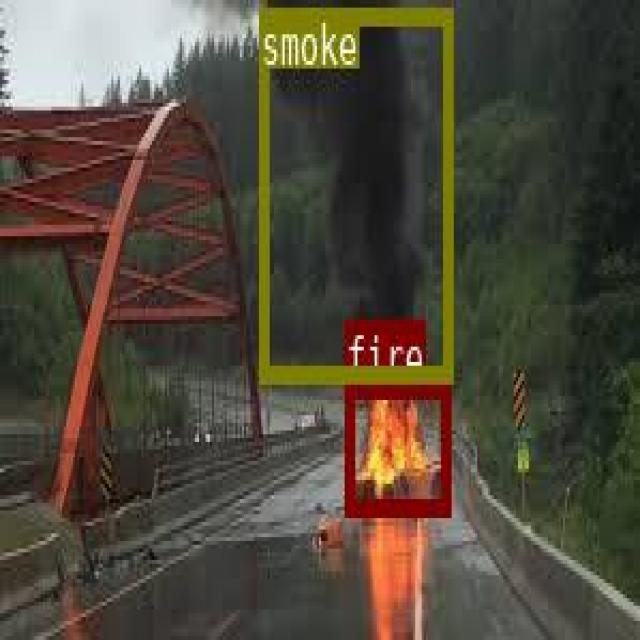fire: (343, 380, 448, 512)
smoke: (258, 7, 450, 381)
